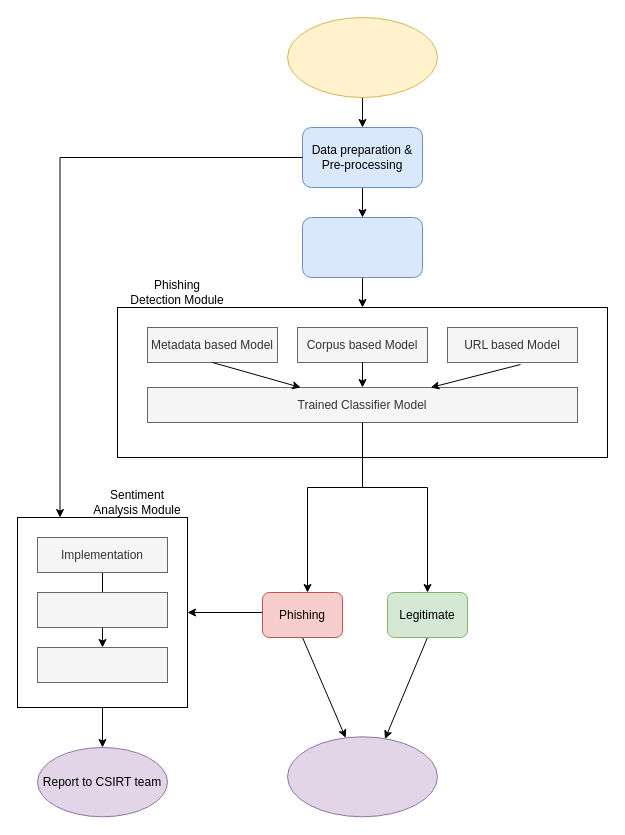
The diagram is 625 pixels wide and 835 high, and some of its shapes have lost their labels. The shapes that lost their labels are listed below. From the top down, each one's box as (x1, y1, x2, y2) in pixels, then its label:
(286, 16, 438, 98): User Request (.eml file)
(302, 216, 422, 278): Feature Extraction
(36, 592, 168, 628): Training
(36, 646, 168, 682): Evaluation
(286, 736, 438, 817): User Notification (Send Results)
